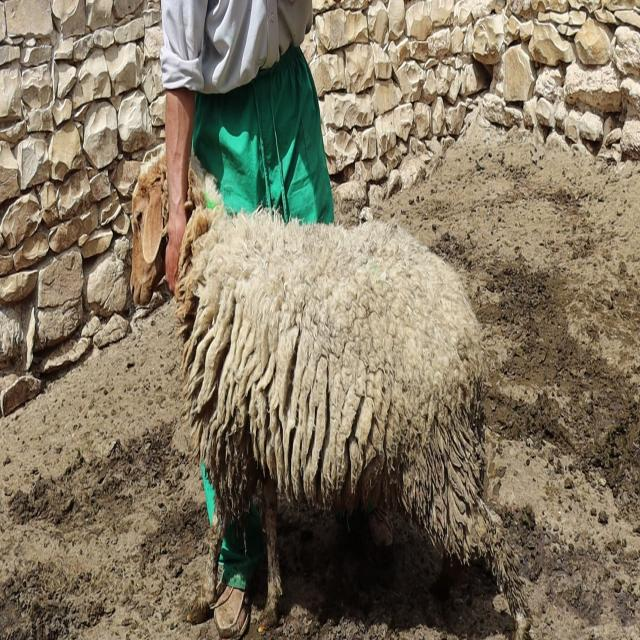Score_4: (175, 159, 531, 639)
